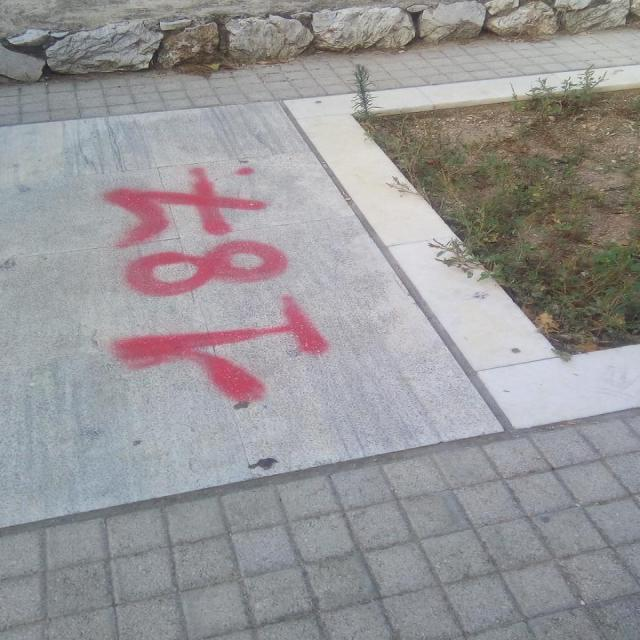nonspitting: (103, 164, 331, 405)
